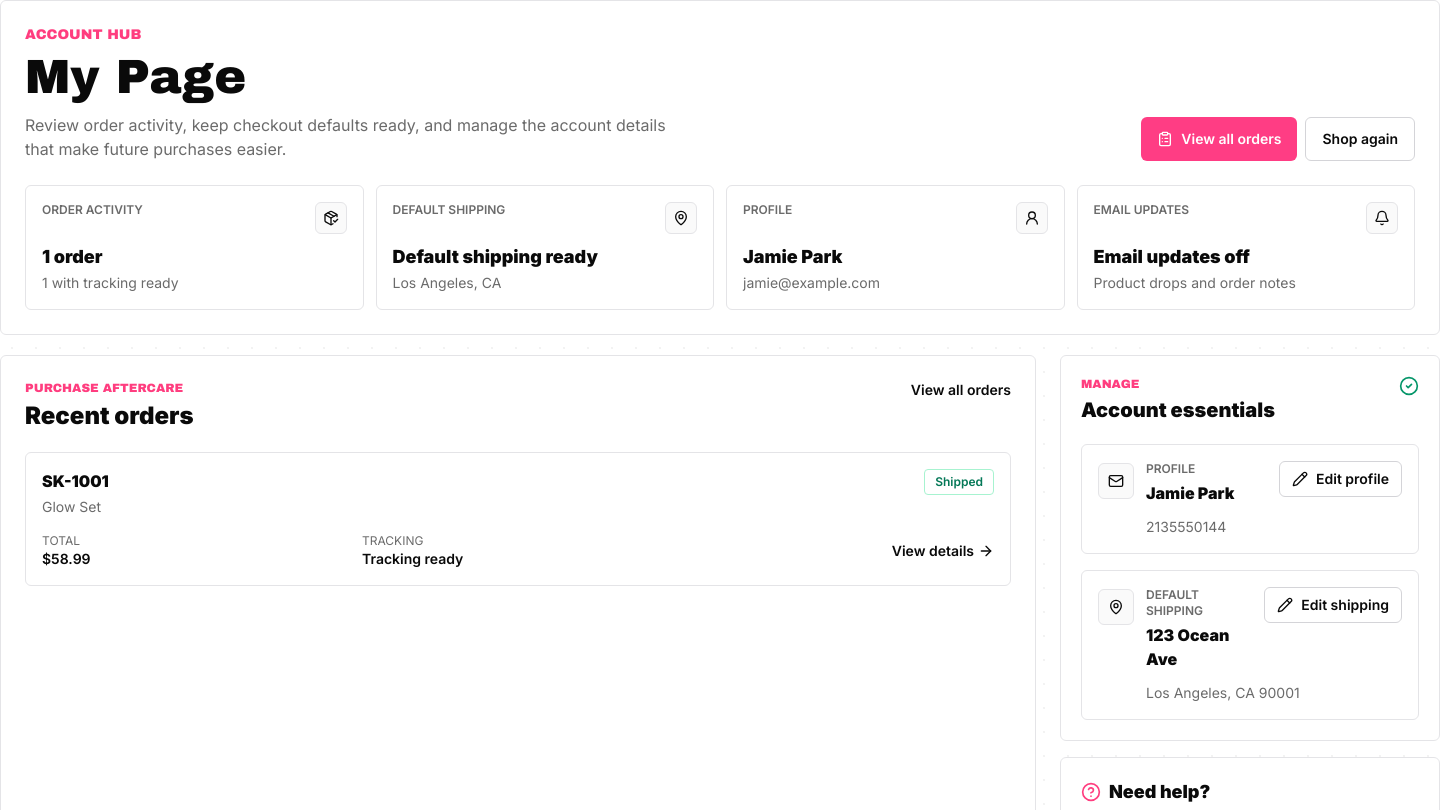
Test case: AccountDashboard › keeps profile and shipping inputs hidden until a selected edit dialog opens
The width and height of the screenshot is (1440, 810).
Expected: the heading "My Page" is shown, [25,51,246,103]
Expected: the text "Account hub" is shown, [25,27,141,42]
Click the button "Edit profile" at (1340,478), box [1279,460,1402,496]
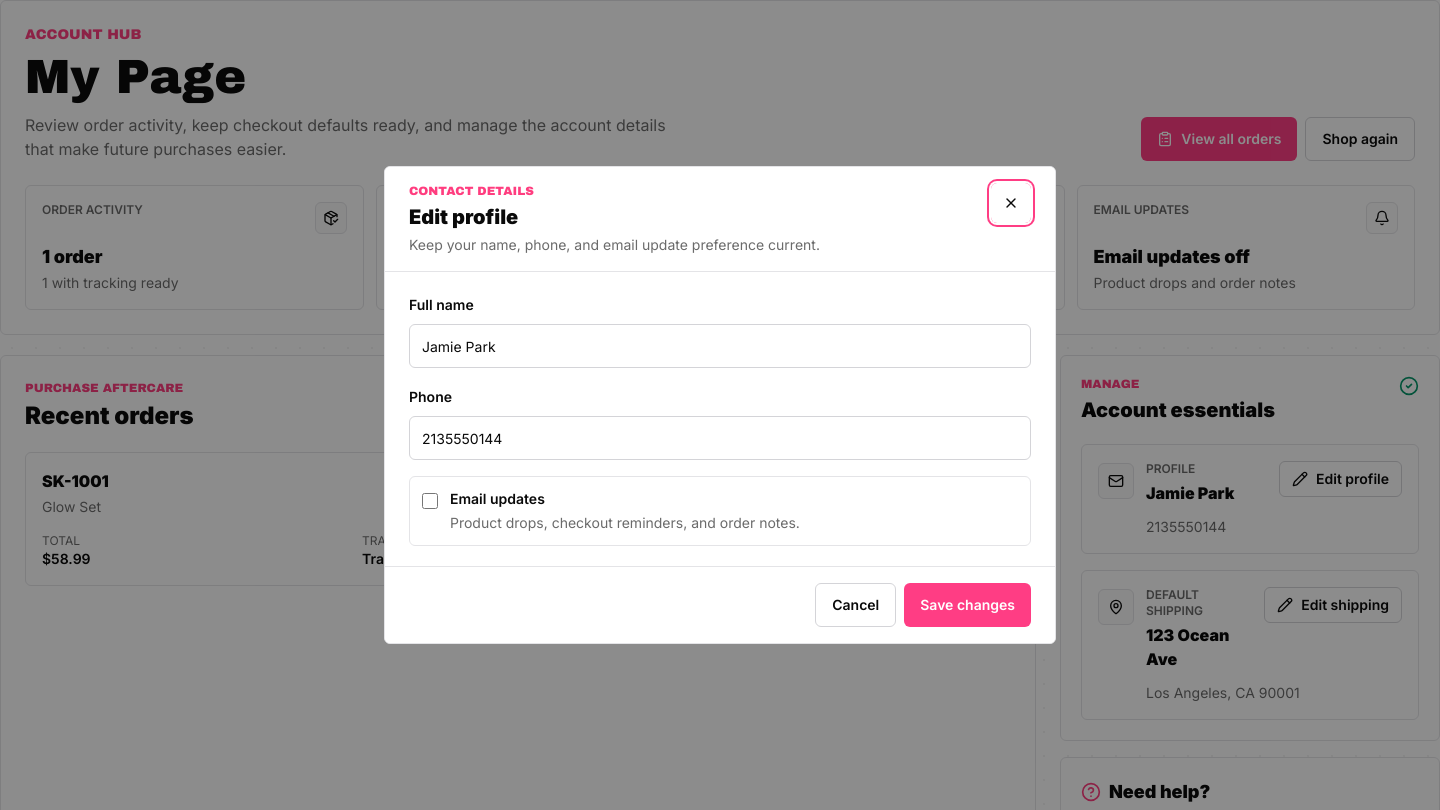
Expected: the field labelled "Address line 1" is not shown
Expected: the dialog "Edit profile" is shown, [384,166,1056,644]
Expected: the field labelled "Full name" holds "Jamie Park", [409,324,1031,368]
Click the button named "Close account edit dialog" at (1011,203), box [991,183,1031,223]
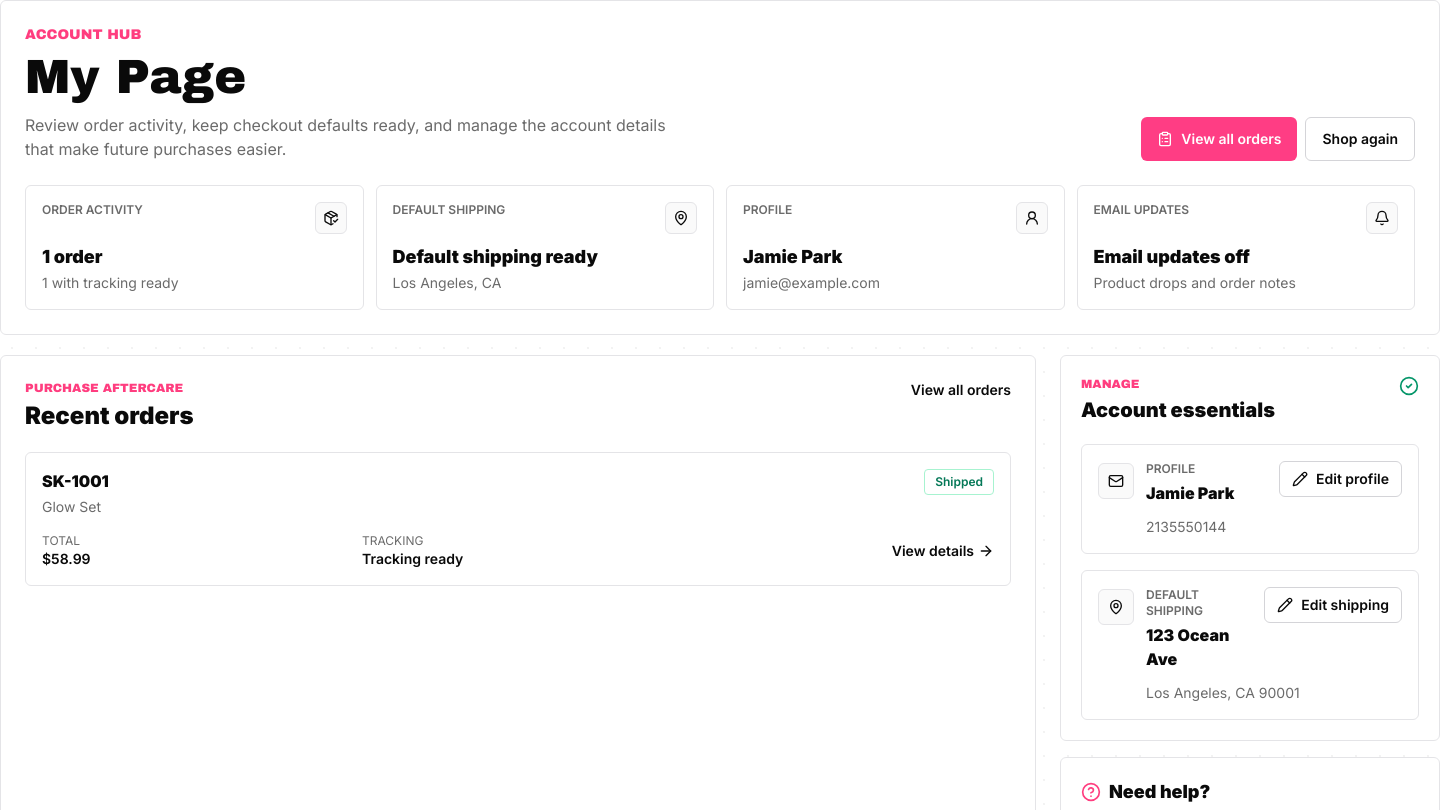
Click the button "Edit shipping" at (1333,604), box [1264,586,1402,622]
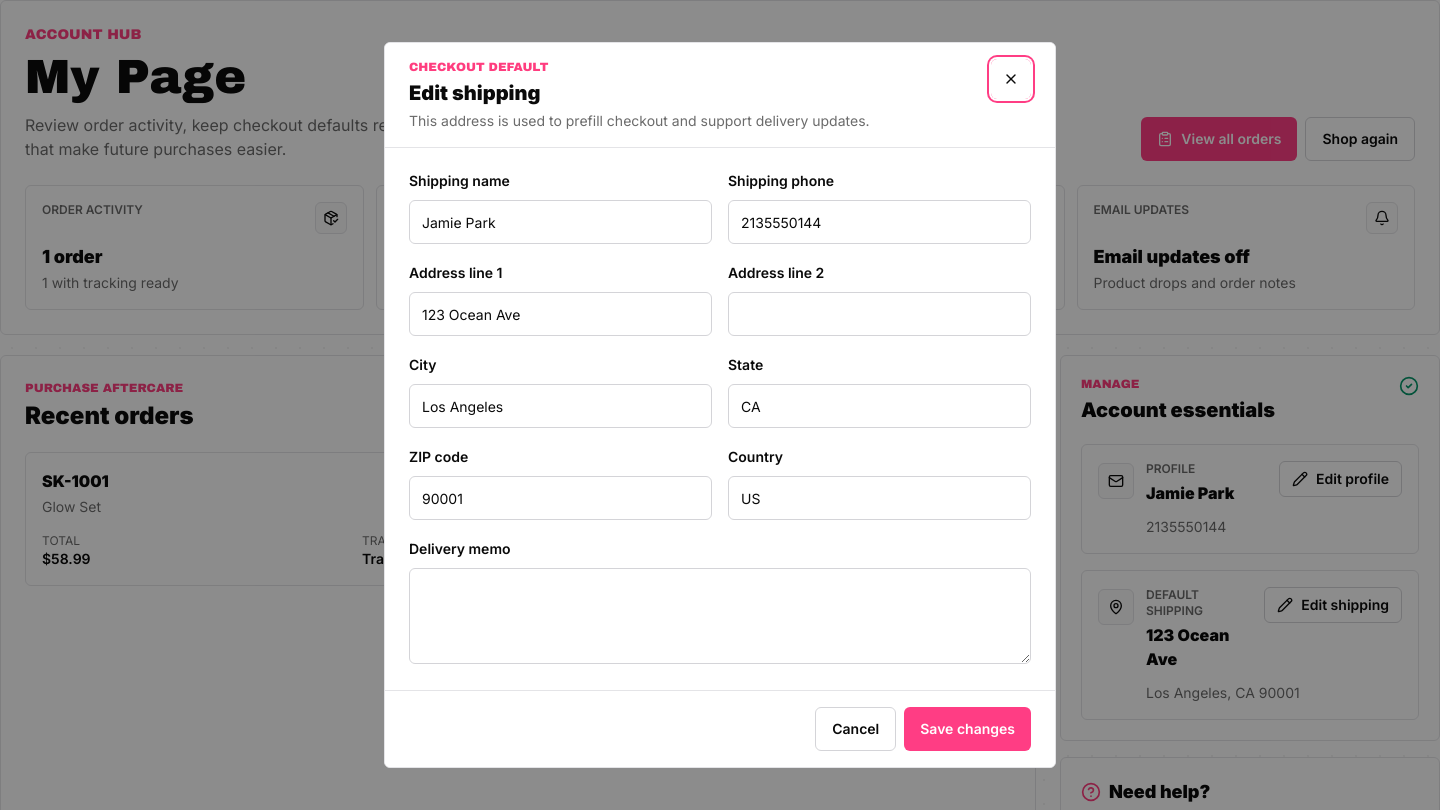
Expected: the label "Full name" is not shown
Expected: the dialog "Edit shipping" is shown, [384,42,1056,768]
Expected: the field labelled "Address line 1" holds "123 Ocean Ave", [409,292,712,336]
